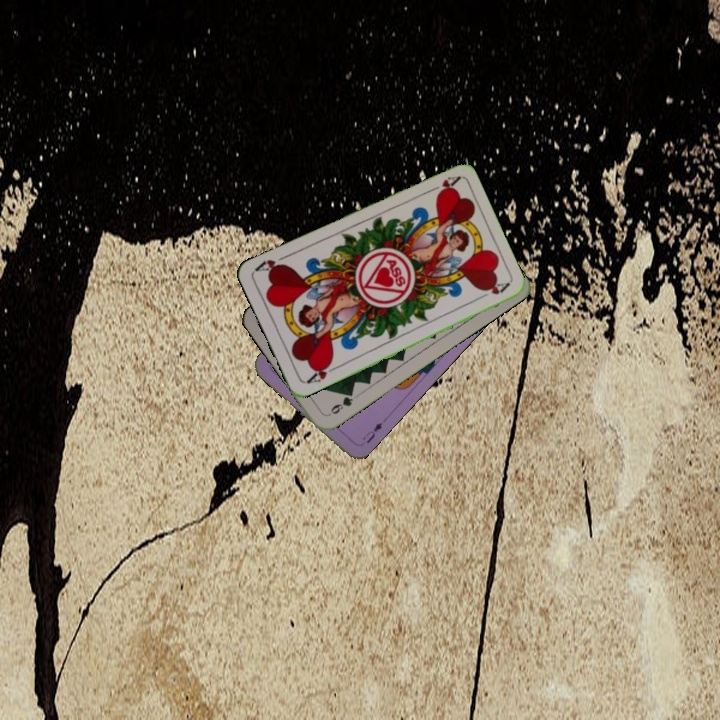EU: (358, 418, 385, 446)
G9: (324, 388, 356, 419)
HA: (302, 358, 340, 386), (423, 172, 462, 199)
